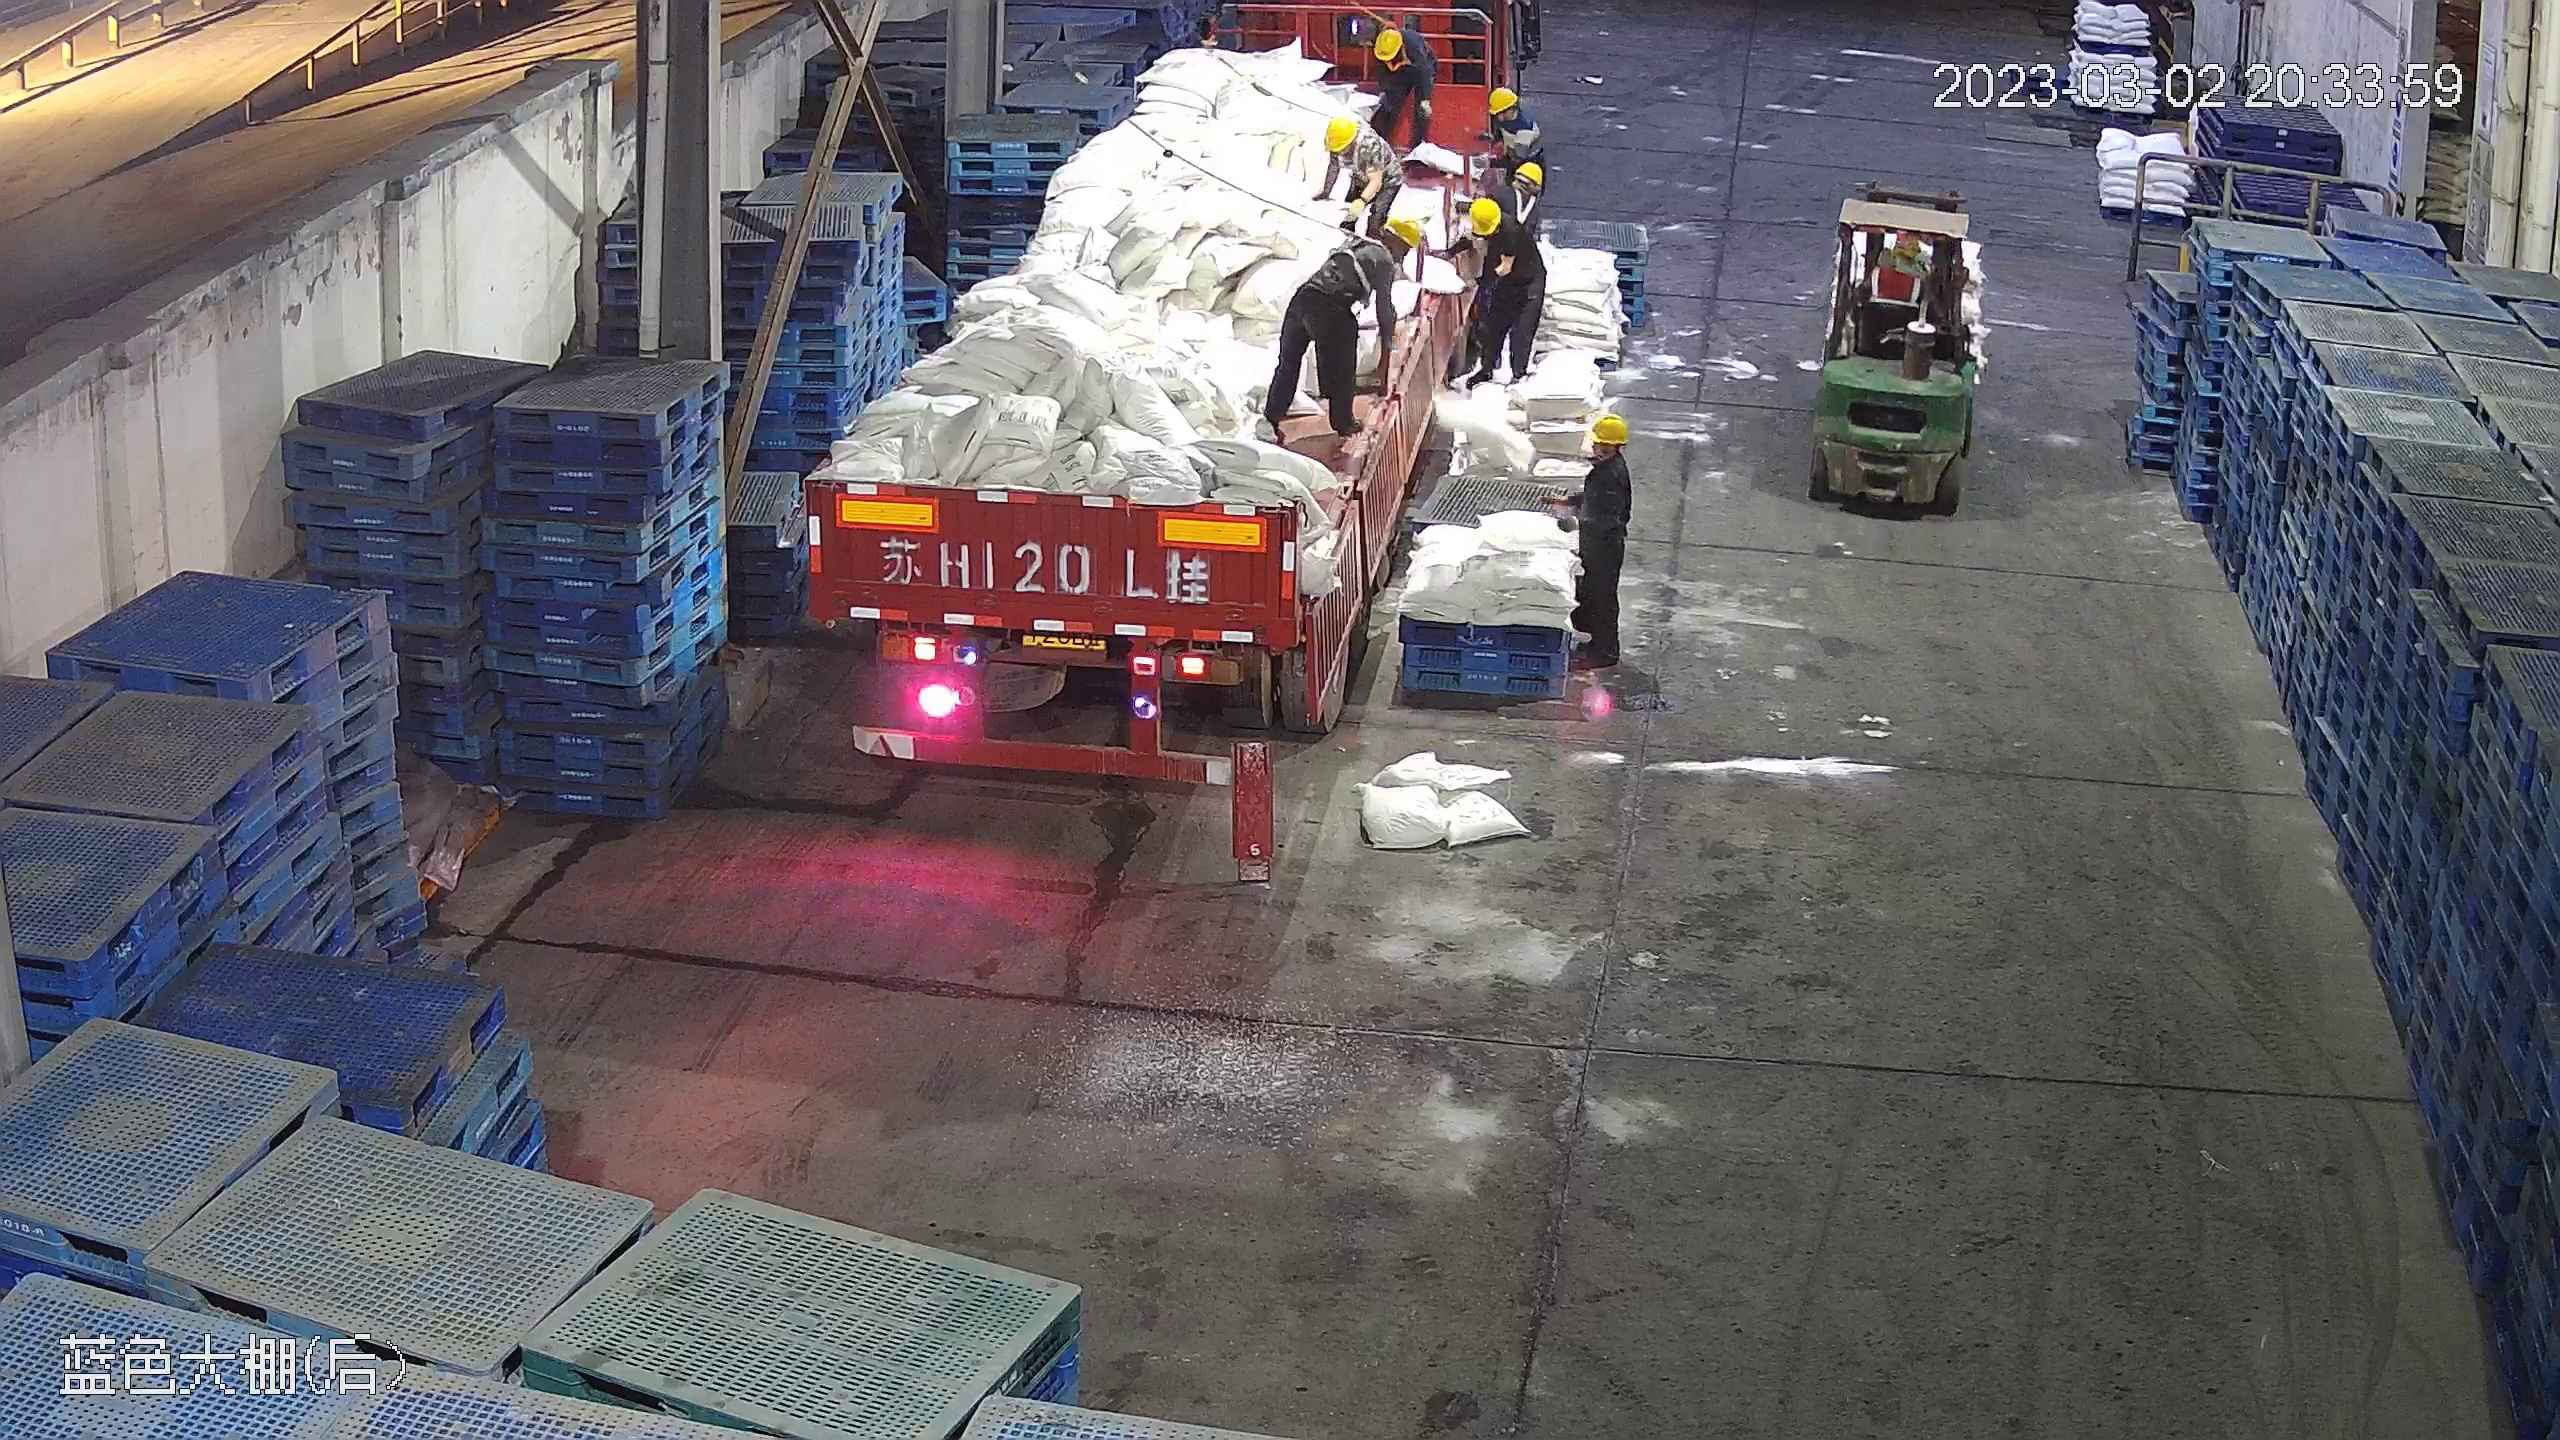belt: (1319, 230, 1390, 297), (1336, 140, 1370, 178), (1510, 185, 1539, 224), (1387, 46, 1418, 71), (1375, 11, 1403, 36)
head: (1328, 215, 1422, 294), (1317, 115, 1393, 199), (1574, 410, 1634, 505), (1461, 188, 1535, 264), (1479, 85, 1540, 153), (1492, 166, 1550, 226), (1375, 23, 1430, 74)
helmet: (1386, 212, 1426, 253), (1462, 198, 1501, 239), (1586, 411, 1633, 442), (1324, 115, 1360, 151), (1483, 87, 1516, 117), (1375, 25, 1405, 56), (1512, 155, 1541, 184)
people: (1260, 210, 1425, 441), (1558, 410, 1635, 671), (1448, 195, 1546, 387), (1317, 113, 1407, 233), (1367, 20, 1441, 156)
truck: (790, 10, 1495, 781)
